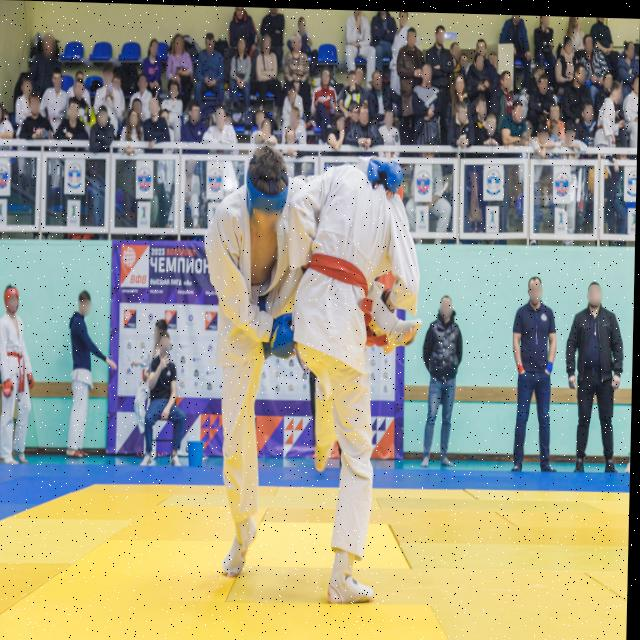Person: (563, 270, 636, 480), (510, 272, 567, 480), (48, 258, 105, 457), (413, 283, 471, 469), (0, 281, 41, 469), (149, 327, 191, 472), (412, 55, 442, 144), (253, 31, 287, 108), (428, 19, 451, 130), (494, 12, 532, 68), (600, 77, 628, 149), (197, 30, 226, 98), (230, 32, 254, 111), (52, 96, 86, 147), (398, 22, 423, 91), (166, 29, 194, 89), (89, 104, 116, 162), (21, 92, 52, 141), (449, 99, 475, 157), (578, 30, 602, 92), (285, 29, 310, 88), (313, 61, 341, 111), (36, 30, 58, 93), (623, 66, 639, 152), (145, 95, 169, 150), (585, 14, 618, 54), (530, 12, 555, 64), (259, 6, 286, 52), (165, 80, 185, 138), (501, 98, 526, 144), (340, 61, 364, 107), (100, 63, 122, 111), (355, 101, 379, 145), (229, 6, 257, 42), (557, 30, 577, 80), (618, 36, 637, 86), (185, 97, 206, 142), (15, 79, 37, 121), (124, 108, 145, 152), (473, 50, 493, 96), (580, 100, 599, 147), (210, 103, 233, 141), (381, 106, 401, 149), (147, 28, 163, 81), (49, 69, 67, 116), (371, 67, 389, 114), (392, 9, 408, 61), (532, 70, 553, 109), (562, 118, 583, 157), (329, 108, 349, 148), (478, 108, 502, 141), (254, 112, 277, 145), (134, 65, 151, 108), (446, 36, 463, 71), (535, 119, 553, 152), (565, 13, 584, 44), (282, 80, 303, 108), (72, 76, 92, 104), (472, 95, 489, 126), (498, 67, 515, 96), (571, 59, 585, 94), (453, 65, 467, 99), (549, 116, 564, 147), (289, 104, 306, 131), (488, 44, 500, 73), (254, 107, 268, 130), (475, 36, 487, 62), (284, 124, 299, 144), (459, 47, 471, 70), (112, 73, 125, 93), (133, 97, 146, 116), (550, 102, 564, 118)
